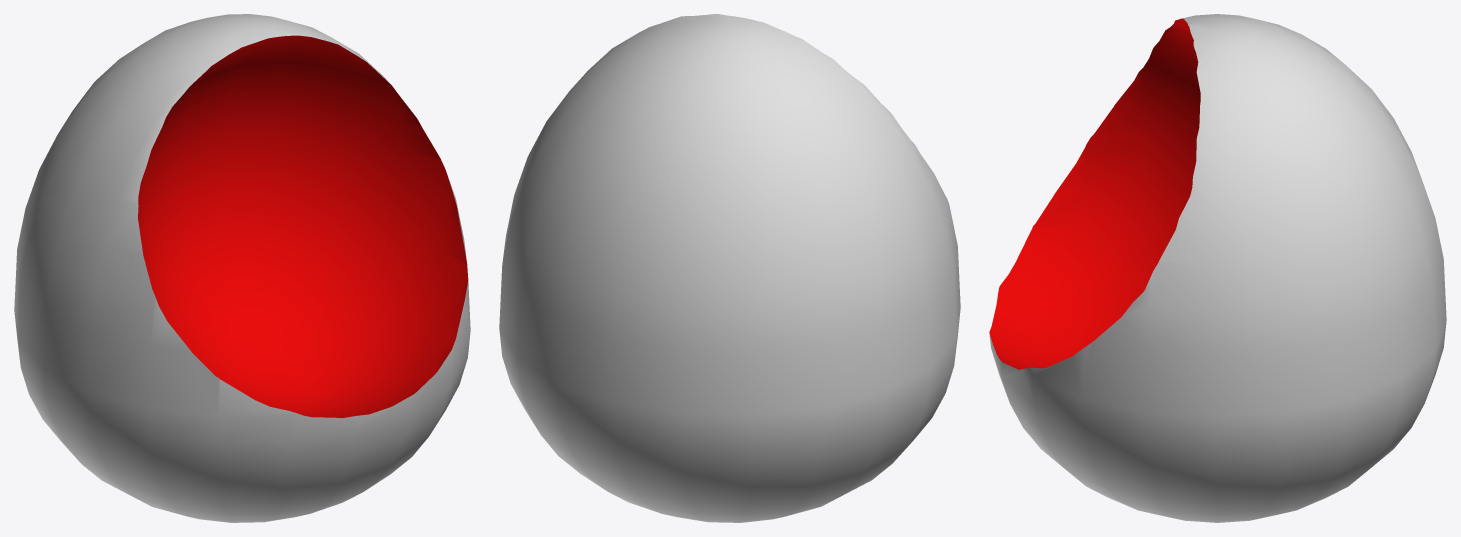
The model's file is ChairFO1.fbx.
3 renders of one model, left to right at view 1: azimuth 30°, elevation 25°; view 2: azimuth 150°, elevation 25°; view 3: azimuth 270°, elevation 25°, orthographic.
Parts seen in each view (by area): view 1: polySurface1; view 2: polySurface1; view 3: polySurface1.
Boxes of the visible parts, bbox=[...] form: polySurface1: bbox=[14, 14, 470, 522]; polySurface1: bbox=[499, 14, 960, 522]; polySurface1: bbox=[989, 14, 1446, 522].
Bounding box in the file's own units: 5.68 × 6.39 × 5.66.
